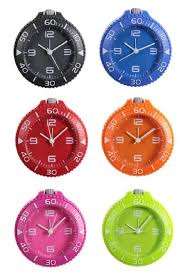alarm_clock: (99, 7, 172, 83), (104, 7, 172, 83)
